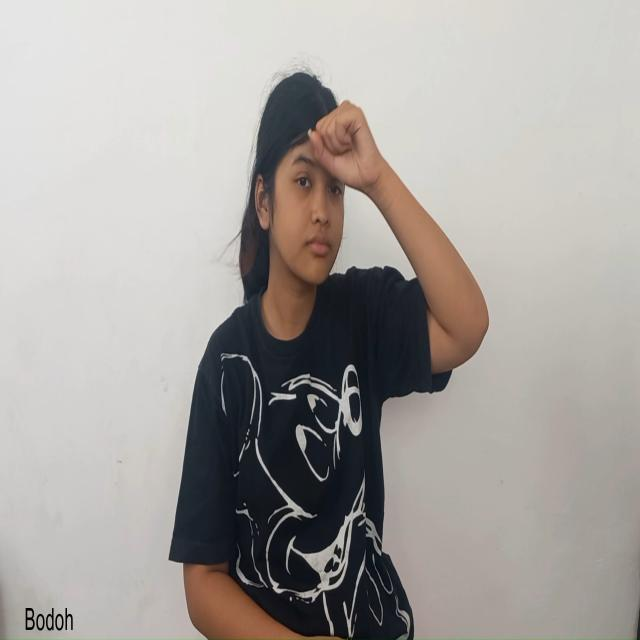Bodoh -BISINDO-: (210, 44, 418, 380)
